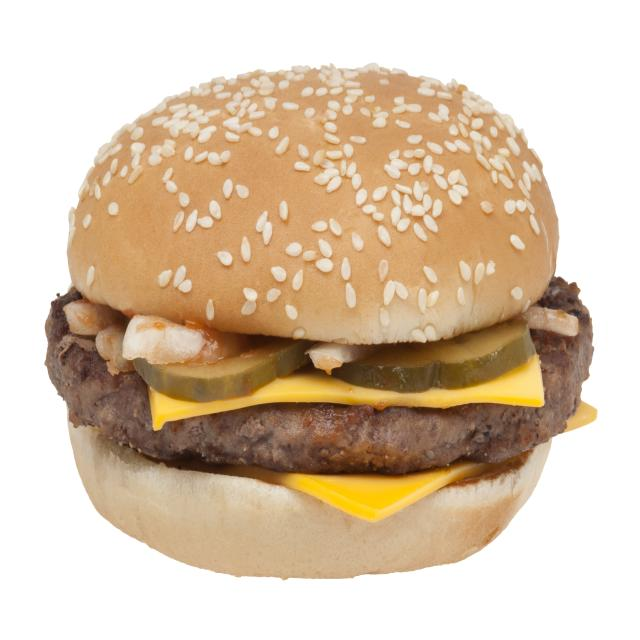burger: (23, 34, 628, 619)
